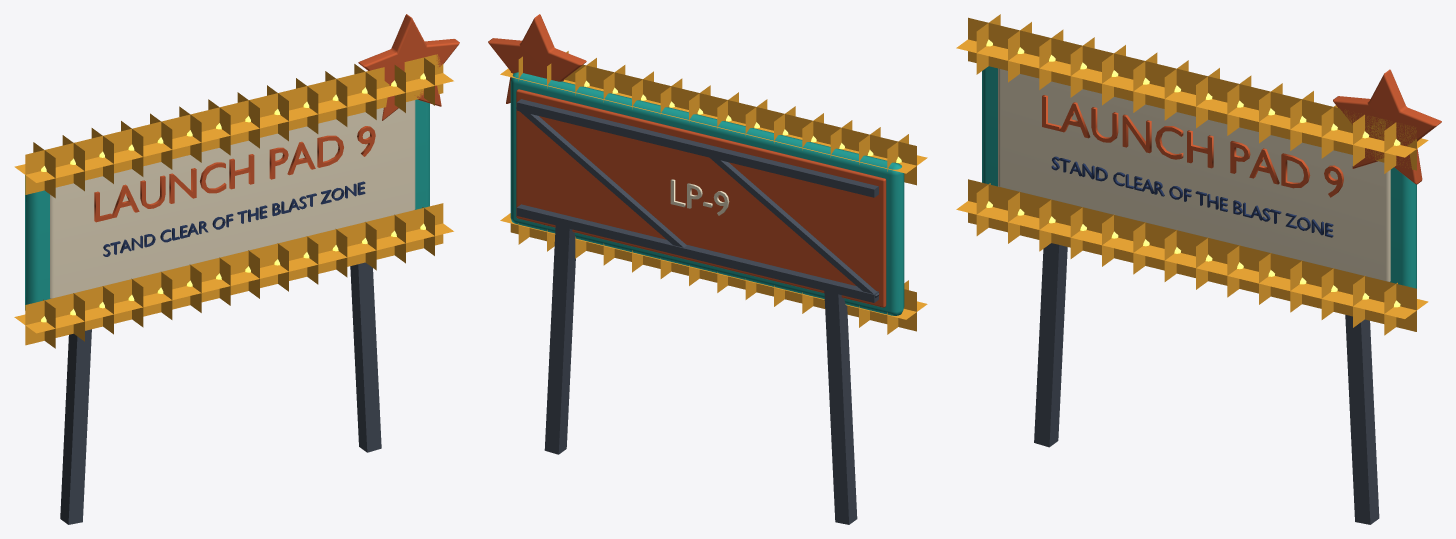
File: dune_sign.glb
The picture shows the model from 3 angles, left to right: view 1: azimuth 30°, elevation 25°; view 2: azimuth 150°, elevation 25°; view 3: azimuth 330°, elevation 25°; orthographic projection. The views are drawn at different scales.
Parts seen in each view (by area): view 1: Sign; view 2: Sign; view 3: Sign.
Boxes of the visible parts, x1,y1,x2,y2 form: Sign: (14, 14, 459, 524); Sign: (488, 14, 927, 524); Sign: (956, 14, 1441, 524).
Bounding box in the file's own units: 7.58 × 7.19 × 0.906.
